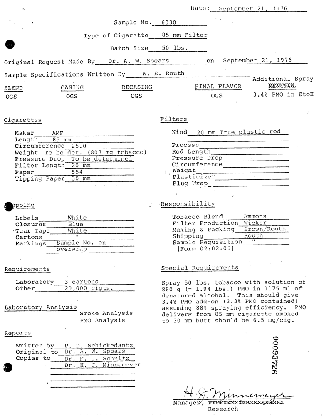textline: (172, 385, 295, 401), (124, 69, 251, 79), (94, 55, 206, 66), (33, 127, 135, 138), (210, 2, 309, 13), (185, 134, 291, 144), (32, 167, 136, 177), (186, 127, 290, 137), (37, 134, 136, 144), (37, 147, 136, 157), (213, 55, 310, 65), (39, 215, 137, 223), (41, 234, 137, 242), (63, 140, 136, 150), (63, 161, 135, 171), (34, 286, 136, 293), (198, 142, 287, 150), (50, 382, 136, 390), (148, 29, 210, 40), (147, 42, 209, 53), (194, 168, 291, 175), (207, 180, 291, 188), (54, 342, 136, 350), (64, 154, 136, 163), (64, 174, 136, 183), (57, 349, 136, 357), (46, 241, 136, 248), (45, 248, 135, 255), (152, 16, 209, 27), (45, 222, 134, 229), (221, 154, 290, 163), (203, 233, 291, 240), (50, 356, 136, 363), (50, 363, 136, 370), (50, 370, 136, 377), (50, 376, 136, 383), (215, 173, 290, 181), (50, 228, 134, 235), (54, 279, 135, 286), (222, 161, 291, 169), (210, 149, 288, 156), (222, 213, 291, 220), (234, 227, 291, 234), (238, 220, 291, 227), (242, 239, 290, 246)
